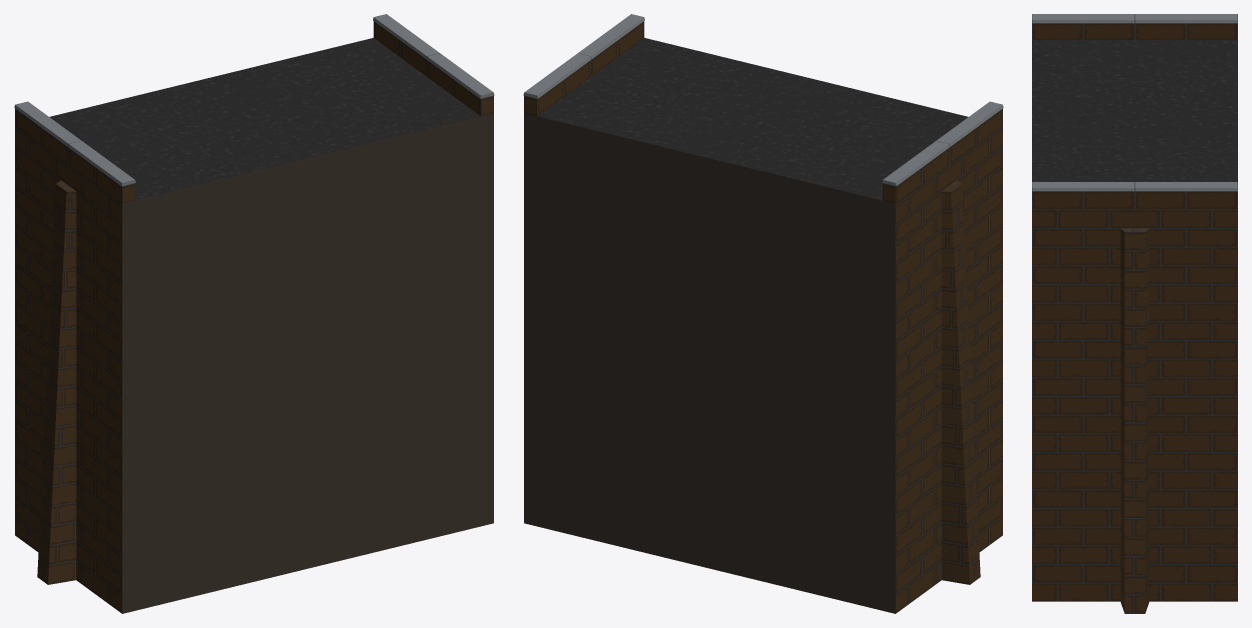
The model's file is SW_ENV_WalledStraight_DoubleTrack_05m.fbx.
The picture shows the model from 3 angles, left to right: view 1: azimuth 30°, elevation 25°; view 2: azimuth 150°, elevation 25°; view 3: azimuth 270°, elevation 25°; orthographic projection. The views are drawn at different scales.
Visible parts, largest first — view 1: SW_ENV_WalledStraight_DoubleTrack_05m; view 2: SW_ENV_WalledStraight_DoubleTrack_05m; view 3: SW_ENV_WalledStraight_DoubleTrack_05m.
Part boxes in pixels (x1=…): SW_ENV_WalledStraight_DoubleTrack_05m: x1=14, y1=14, x2=494, y2=613; SW_ENV_WalledStraight_DoubleTrack_05m: x1=523, y1=14, x2=1003, y2=613; SW_ENV_WalledStraight_DoubleTrack_05m: x1=1032, y1=14, x2=1237, y2=613.
Size of the model in its own units: 11.4 by 11.08 by 5.
